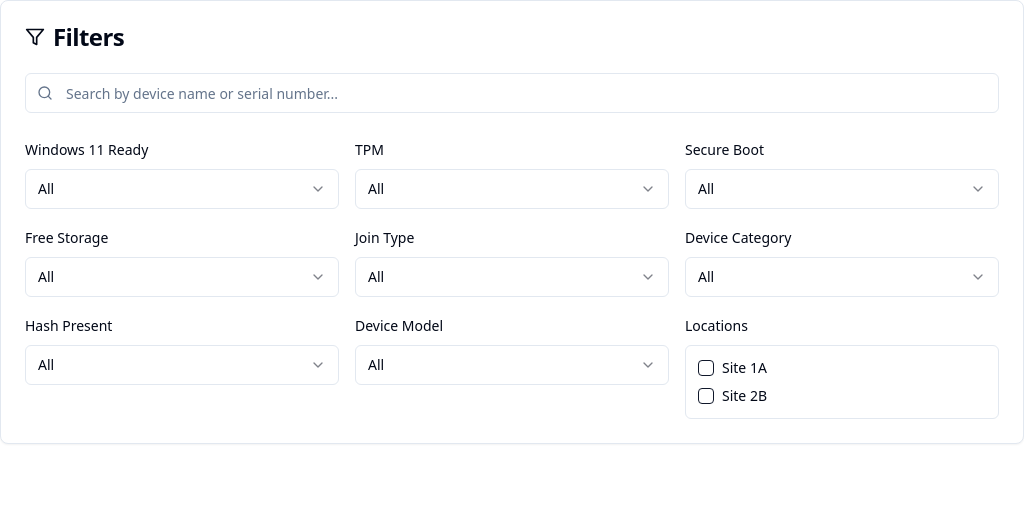
FilterPanel › should populate device model options from provided devices
# Find and click the device model select to open it (8th combobox)
What coordinates should you click on to do the following:
click the dropdown labelled "All" below "Device Model"
I would click on:
 (376, 364)
Its box is top-left (355, 345), bottom-right (669, 385).
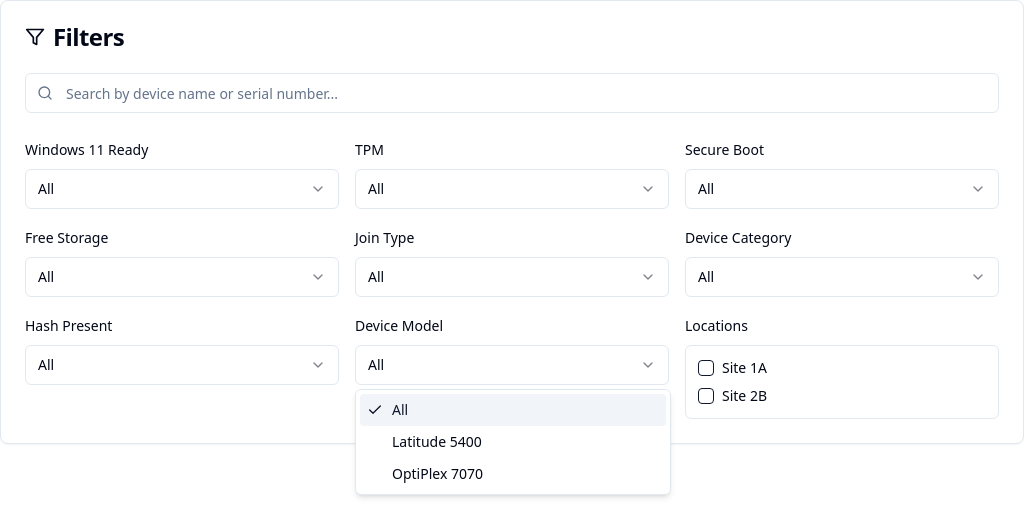
Check: the text "OptiPlex 7070" is shown, box top-left (392, 464), bottom-right (483, 484)
Check: the text "Latitude 5400" is shown, box top-left (392, 432), bottom-right (482, 452)
